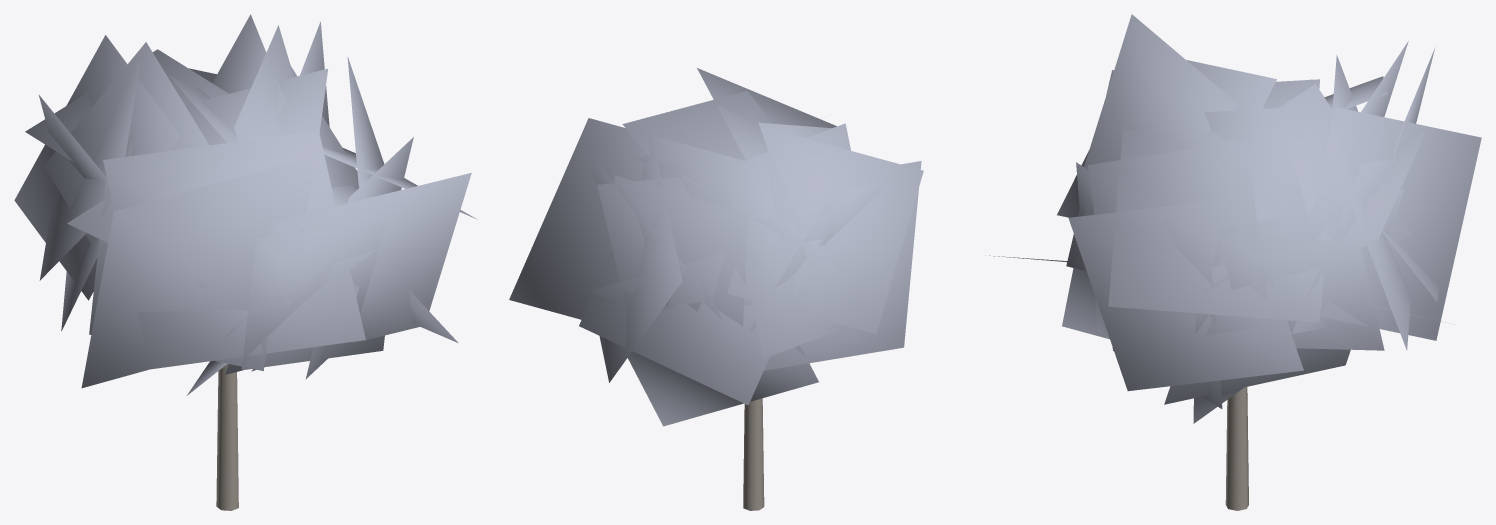
File: jungletree1.glb
3 views of the same model, side by side, from view 1: azimuth 30°, elevation 25°; view 2: azimuth 150°, elevation 25°; view 3: azimuth 270°, elevation 25° (orthographic). The views are drawn at different scales.
Visible parts, largest first — view 1: leaves, bark; view 2: leaves, bark; view 3: leaves, bark.
Boxes of the visible parts, x1,y1,x2,y2 form: leaves: [14, 14, 477, 395]; bark: [216, 363, 238, 510]; leaves: [509, 68, 923, 426]; bark: [743, 398, 764, 510]; leaves: [985, 14, 1481, 423]; bark: [1225, 387, 1248, 510].
Bounding box in the file's own units: 11.53 × 12.73 × 11.61.
